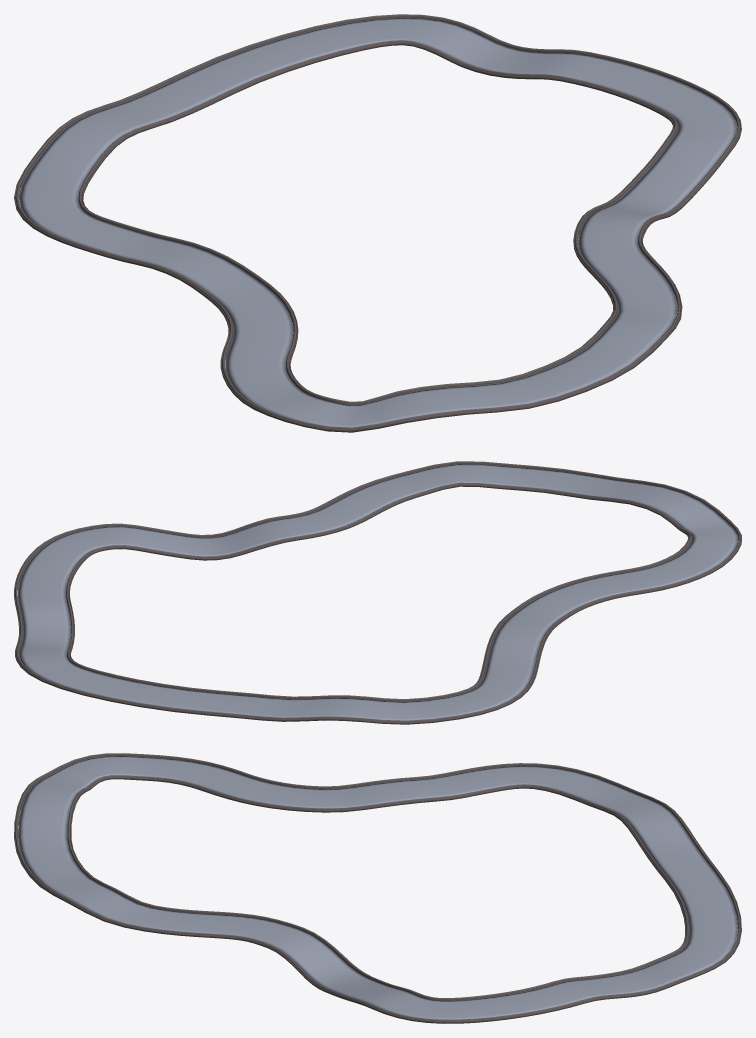
Rendered from pista.fbx.
3 views of the same model, one above another, from view 1: azimuth 30°, elevation 25°; view 2: azimuth 150°, elevation 25°; view 3: azimuth 270°, elevation 25° (orthographic). The views are drawn at different scales.
Visible parts, largest first — view 1: pista, borde; view 2: pista, borde; view 3: pista, borde.
Part boxes in pixels (x1,y1,x2,y2): pista: [18, 17, 737, 427]; borde: [14, 14, 741, 432]; pista: [17, 463, 738, 720]; borde: [14, 461, 741, 724]; pista: [18, 755, 737, 1019]; borde: [14, 753, 741, 1023].
Size of the model in its own units: 1.44 by 0.0656 by 1.66.
